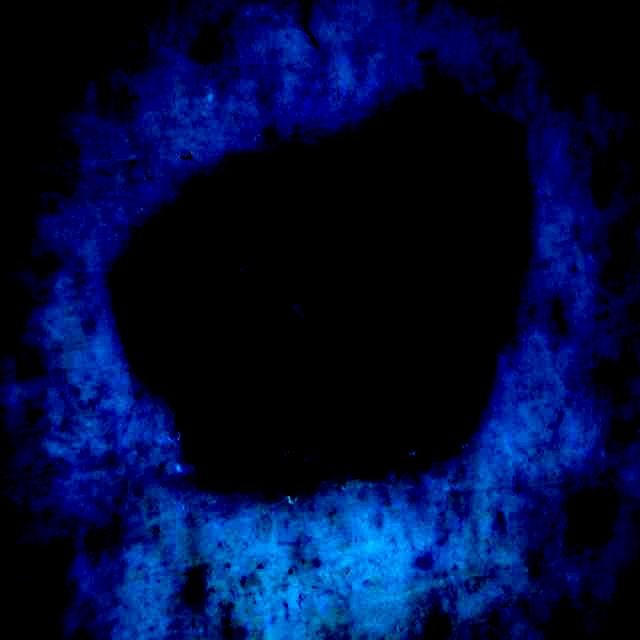BKL: (122, 95, 529, 486)
